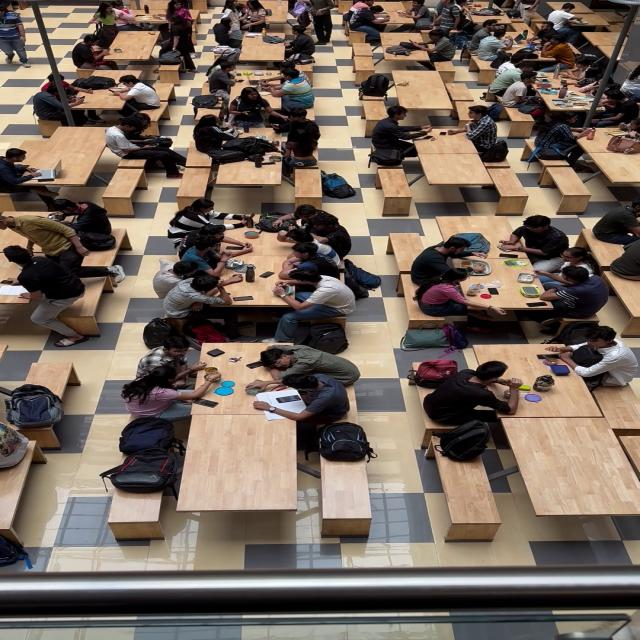Occupied: (170, 196, 381, 326), (411, 209, 609, 323), (126, 330, 354, 422), (419, 329, 640, 420), (0, 199, 130, 335), (214, 59, 322, 160), (368, 103, 510, 162), (32, 62, 168, 118), (490, 57, 632, 105), (0, 378, 63, 470), (111, 414, 182, 485), (474, 12, 593, 54), (545, 105, 640, 157), (107, 119, 187, 178), (0, 140, 70, 194), (87, 0, 207, 31), (336, 0, 453, 31), (433, 418, 506, 464), (216, 0, 302, 30), (318, 421, 379, 462), (62, 27, 126, 66), (389, 29, 457, 62), (261, 29, 318, 59), (356, 70, 406, 98), (550, 0, 606, 20), (466, 0, 540, 15), (208, 43, 234, 60)
Unoccupied: (518, 422, 640, 516), (188, 422, 304, 514), (437, 458, 506, 537), (322, 462, 377, 522), (105, 484, 171, 520), (16, 352, 86, 382), (540, 165, 596, 198), (222, 160, 288, 186), (0, 474, 24, 530), (105, 169, 141, 206), (408, 71, 444, 107), (491, 163, 526, 197), (380, 168, 416, 201), (607, 156, 640, 190), (44, 124, 101, 142), (346, 39, 376, 72), (445, 80, 479, 104), (297, 166, 324, 194), (593, 31, 624, 50)
